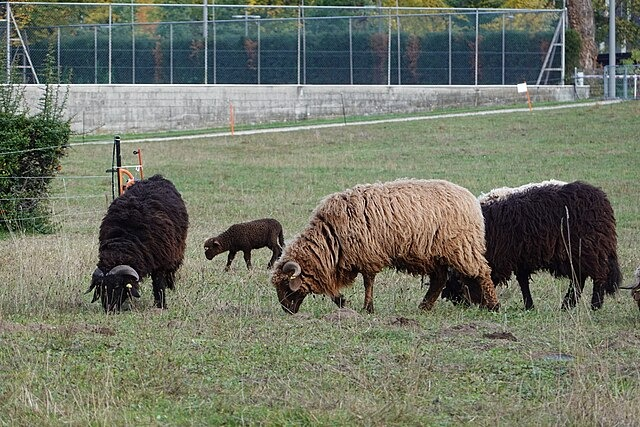grazing: (269, 180, 503, 311), (88, 175, 187, 311), (204, 215, 286, 271)
